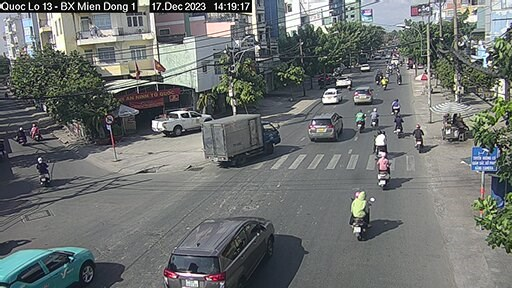car: (168, 216, 274, 287), (5, 241, 95, 284), (147, 106, 214, 136), (307, 110, 343, 145), (320, 83, 345, 110), (353, 88, 377, 105), (333, 75, 355, 88), (359, 59, 372, 73)
motorbike: (347, 193, 375, 233), (34, 159, 55, 186), (389, 109, 409, 137), (371, 134, 389, 159), (411, 126, 424, 158), (354, 109, 369, 134), (367, 104, 381, 125), (379, 159, 389, 183), (391, 99, 403, 116)
truck: (201, 113, 280, 166)
